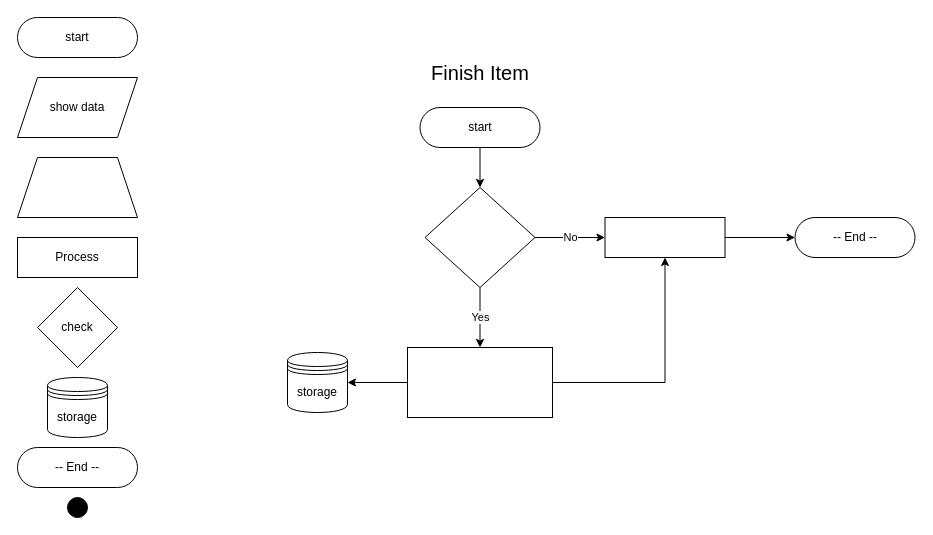
Image size: 933x535. Some labels were removed from this diagram. The centre of each missing label's shape, as x and y in pixels:
ADD new record by finished lecture id in Student_pass Table: the point at 479,382
get info: the point at 77,187
is this last_order_item: the point at 479,237
Redirect To Next Order Item: the point at 664,237
